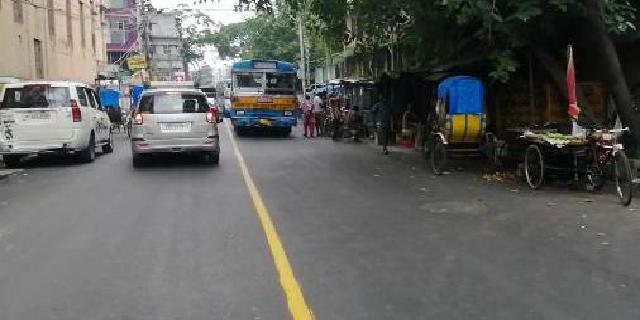Bus: (228, 59, 301, 137)
Car: (1, 74, 115, 162), (126, 81, 222, 164)
Rickshaw: (415, 78, 504, 176)
